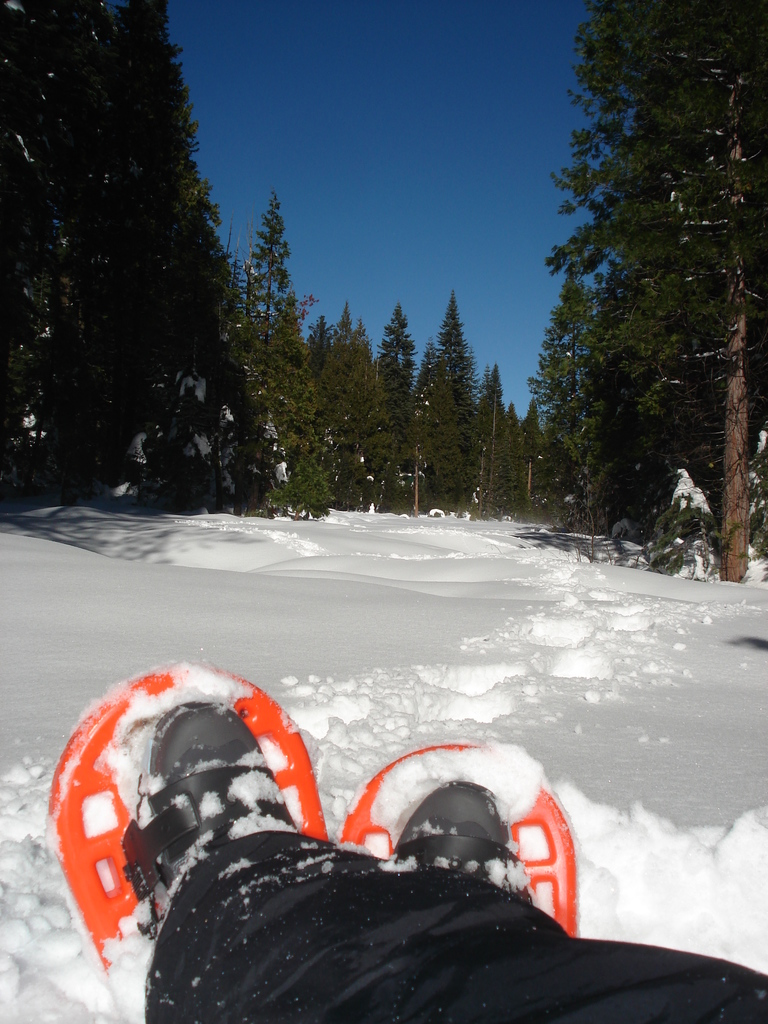Tree: (0, 0, 768, 584)
